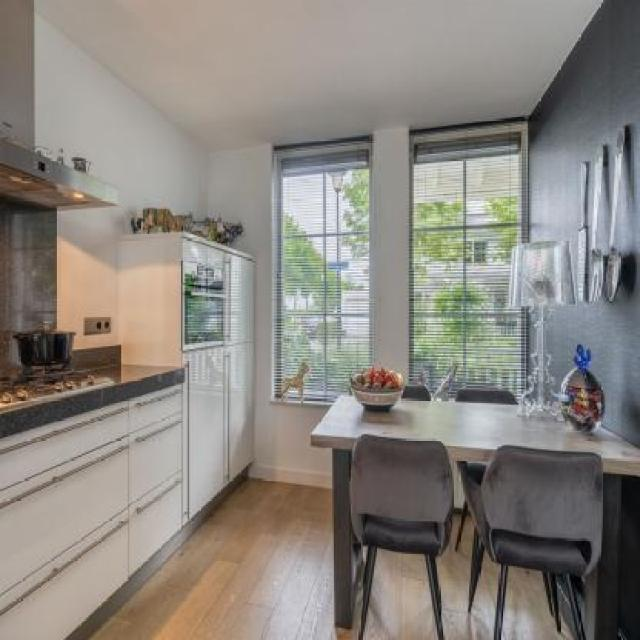floor: (88, 474, 367, 638)
